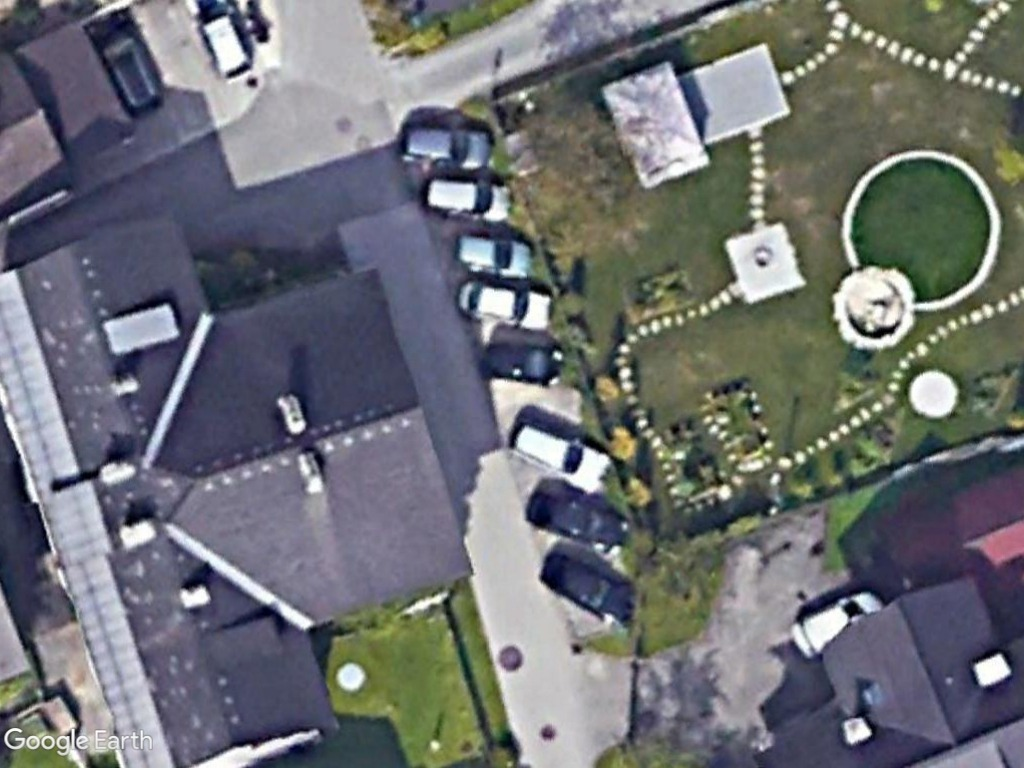car: (81, 7, 170, 124), (505, 414, 613, 497), (390, 115, 496, 176), (417, 169, 518, 230), (454, 278, 556, 335), (476, 329, 565, 392), (449, 227, 534, 284)
